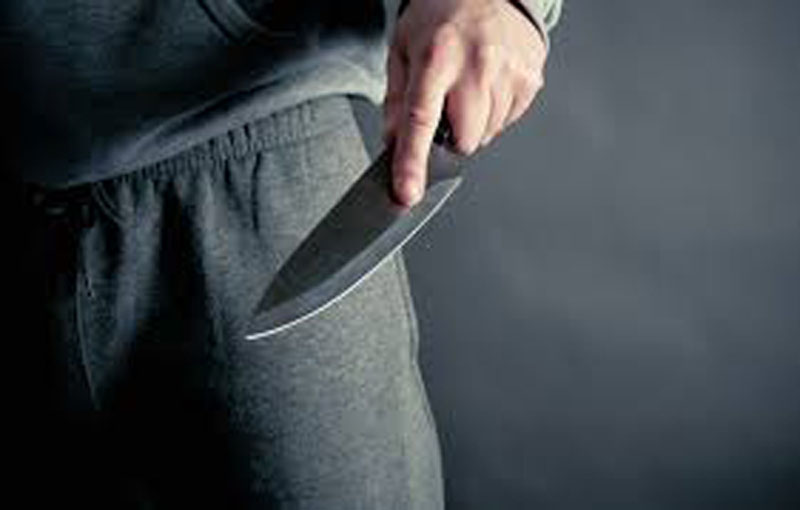knife: (235, 48, 520, 350)
